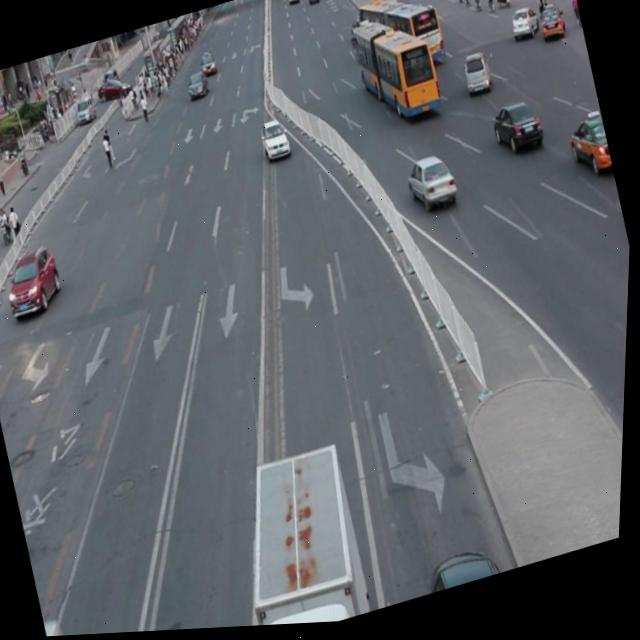bus: (221, 440, 382, 630)
car: (2, 242, 69, 319), (424, 542, 509, 600), (402, 154, 461, 220), (489, 100, 545, 164), (564, 118, 615, 182), (257, 117, 293, 166)
